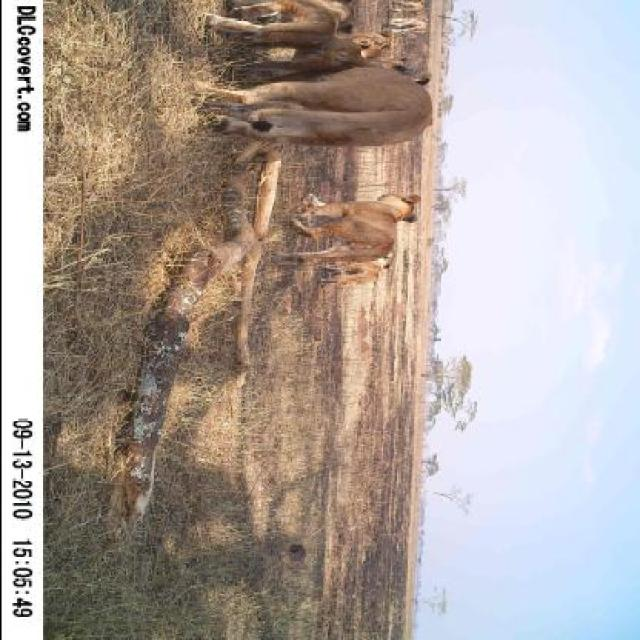Lion: (175, 46, 468, 160), (245, 172, 429, 286), (189, 5, 383, 63)
